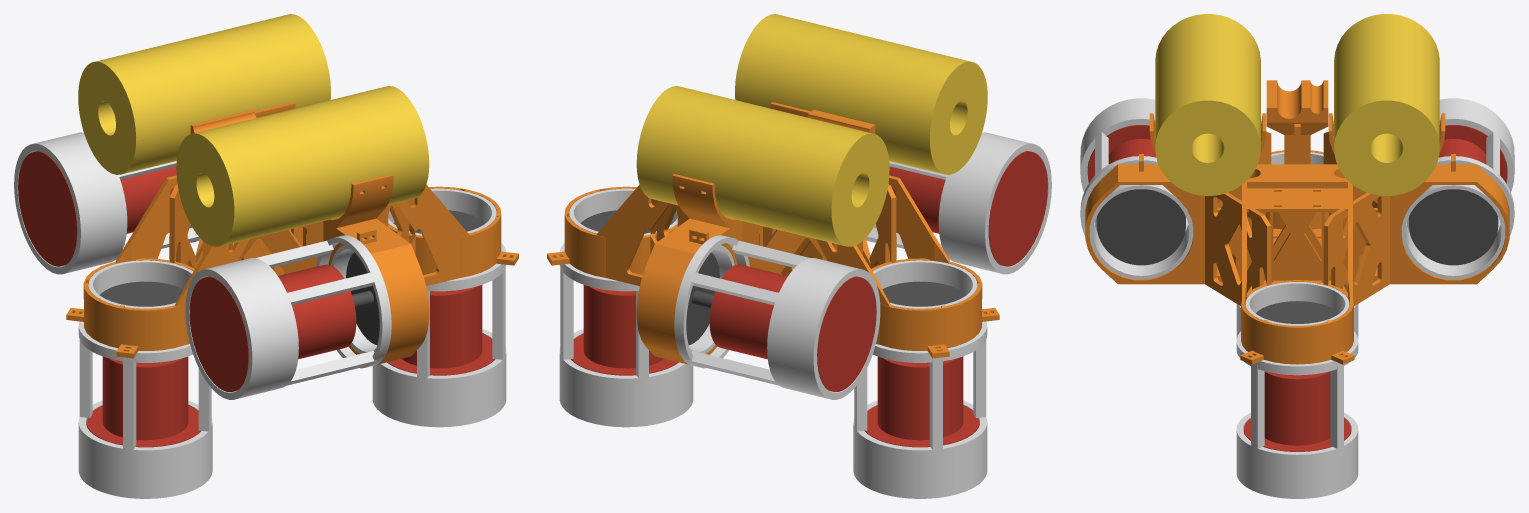
Rendered from rov_v16.glb.
3 renders of one model, left to right at view 1: azimuth 30°, elevation 25°; view 2: azimuth 150°, elevation 25°; view 3: azimuth 270°, elevation 25°, orthographic. The views are drawn at different scales.
Visible parts, largest first — view 1: frame, noodle_right, noodle_left, pod_right/casing, pod_rear/casing, pod_front/casing, pod_right/pump_motor, pod_left/casing, pod_rear/pump_motor, pod_left/pump_motor, pod_front/pump_motor, pod_rear/prop (+1 smaller); view 2: frame, noodle_left, noodle_right, pod_left/casing, pod_rear/casing, pod_front/casing, pod_left/pump_motor, pod_right/casing, pod_rear/pump_motor, pod_right/pump_motor, pod_front/pump_motor, pod_rear/prop (+1 smaller); view 3: frame, noodle_left, noodle_right, pod_front/casing, pod_left/casing, pod_right/casing, pod_left/prop, pod_right/prop, pod_front/pump_motor, pod_left/pump_motor, pod_right/pump_motor, pod_front/prop (+1 smaller).
Part boxes in pixels (x1,y1,x2,y2): frame: [66, 102, 518, 364]; noodle_right: [176, 86, 429, 246]; noodle_left: [78, 14, 330, 174]; pod_right/casing: [185, 235, 391, 399]; pod_rear/casing: [78, 260, 212, 498]; pod_front/casing: [372, 188, 506, 427]; pod_right/pump_motor: [189, 264, 356, 391]; pod_left/casing: [14, 132, 199, 274]; pod_rear/pump_motor: [86, 356, 201, 447]; pod_left/pump_motor: [18, 151, 176, 266]; pod_front/pump_motor: [387, 285, 495, 375]; pod_rear/prop: [99, 281, 183, 306]; frame: [547, 102, 999, 364]; noodle_left: [636, 86, 889, 246]; noodle_right: [735, 14, 987, 174]; pod_left/casing: [674, 235, 880, 399]; pod_rear/casing: [853, 260, 987, 498]; pod_front/casing: [559, 188, 693, 427]; pod_left/pump_motor: [709, 264, 876, 391]; pod_right/casing: [866, 132, 1051, 274]; pod_rear/pump_motor: [864, 356, 979, 447]; pod_right/pump_motor: [889, 151, 1047, 266]; pod_front/pump_motor: [570, 285, 678, 375]; pod_rear/prop: [882, 281, 966, 306]; frame: [1085, 80, 1509, 364]; noodle_left: [1334, 14, 1439, 196]; noodle_right: [1155, 14, 1260, 196]; pod_front/casing: [1236, 282, 1358, 498]; pod_left/casing: [1401, 98, 1514, 279]; pod_right/casing: [1080, 98, 1193, 279]; pod_left/prop: [1409, 189, 1498, 265]; pod_right/prop: [1096, 189, 1185, 265]; pod_front/pump_motor: [1244, 371, 1350, 451]; pod_left/pump_motor: [1438, 125, 1507, 182]; pod_right/pump_motor: [1087, 125, 1156, 182]; pod_front/prop: [1256, 301, 1338, 323].
Bounding box in the file's own units: 0.265 × 0.2263 × 0.267.
